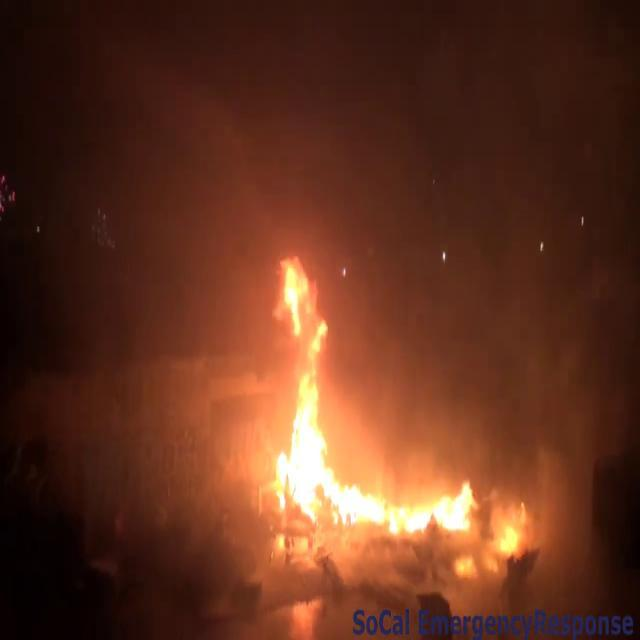Fire: (256, 258, 528, 560)
Smoke: (57, 1, 634, 464)
